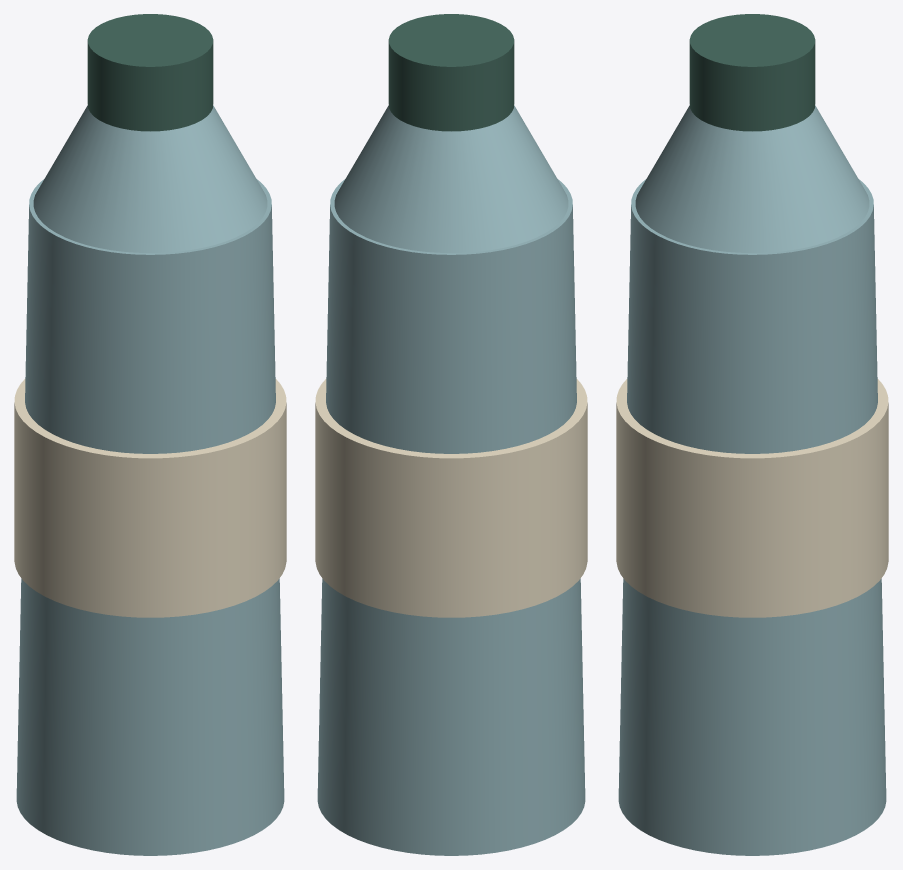
File: sealed_water_bottle.glb
3 renders of one model, left to right at view 1: azimuth 30°, elevation 25°; view 2: azimuth 150°, elevation 25°; view 3: azimuth 270°, elevation 25°, orthographic.
Visible parts, largest first — view 1: Bottle body, Paper wrap, Bottle shoulder, Bottle cap; view 2: Bottle body, Paper wrap, Bottle shoulder, Bottle cap; view 3: Bottle body, Paper wrap, Bottle shoulder, Bottle cap.
Boxes of the visible parts, x1=… form: Bottle body: x1=16, y1=179, x2=284, y2=855; Paper wrap: x1=14, y1=379, x2=286, y2=617; Bottle shoulder: x1=33, y1=105, x2=267, y2=252; Bottle cap: x1=87, y1=14, x2=213, y2=131; Bottle body: x1=317, y1=179, x2=585, y2=855; Paper wrap: x1=315, y1=379, x2=587, y2=617; Bottle shoulder: x1=334, y1=105, x2=568, y2=252; Bottle cap: x1=388, y1=14, x2=514, y2=131; Bottle body: x1=618, y1=179, x2=886, y2=855; Paper wrap: x1=616, y1=379, x2=888, y2=617; Bottle shoulder: x1=635, y1=105, x2=869, y2=252; Bottle cap: x1=689, y1=14, x2=815, y2=131.
Bounding box in the file's own units: 0.065 × 0.2 × 0.065.
